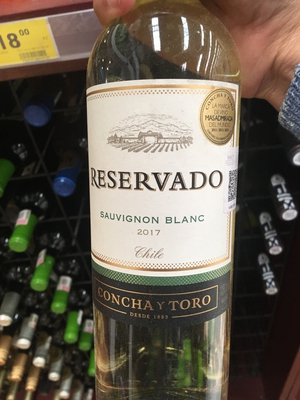reservado sauvignon blanc: (83, 13, 252, 399)
